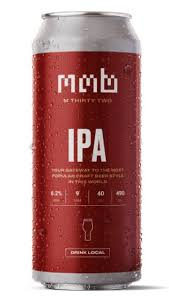can: (30, 8, 144, 293)
